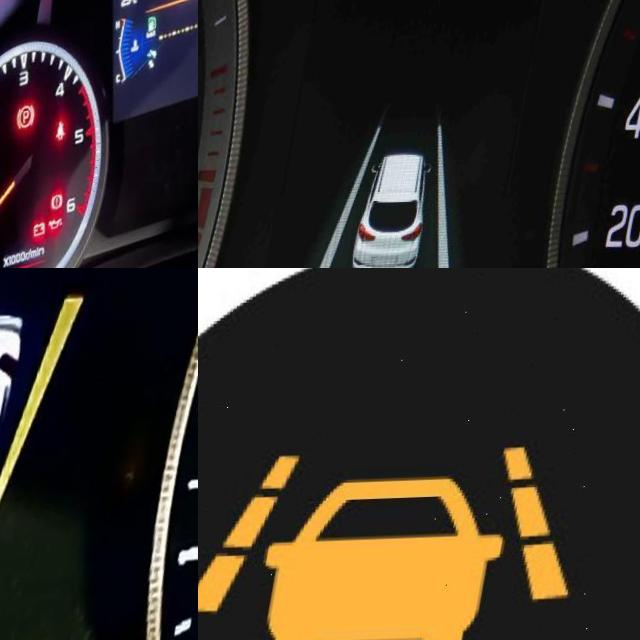Seat Belt: (68, 120, 83, 143)
